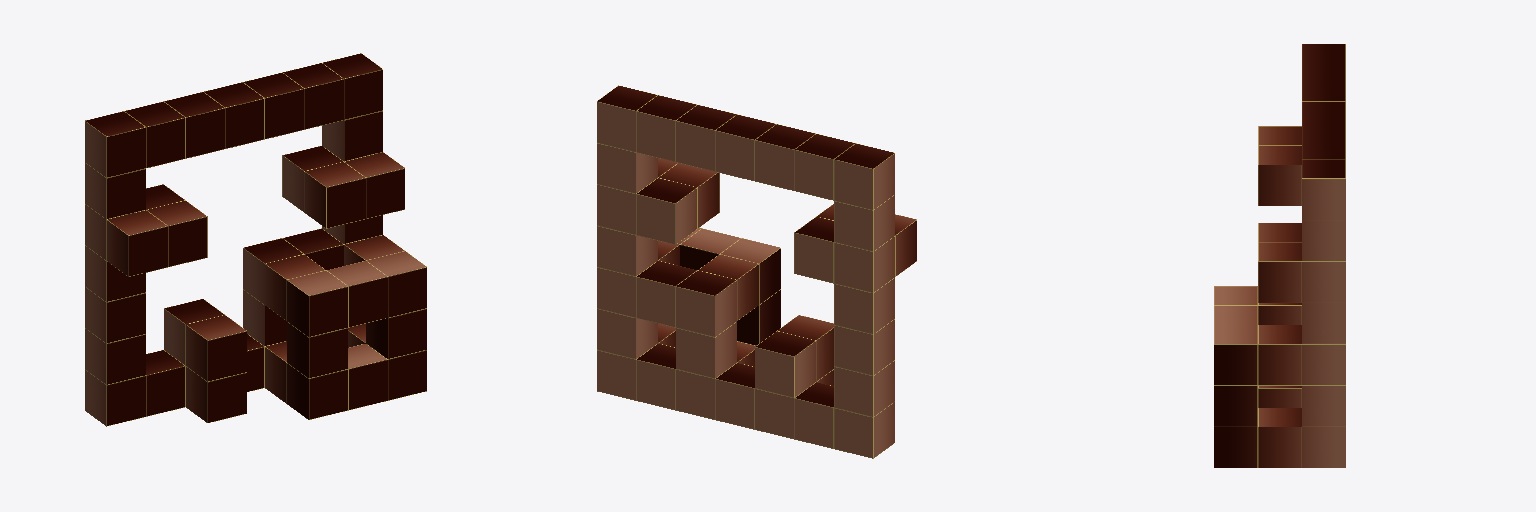
The picture shows the model from 3 angles: view 1: azimuth 30°, elevation 25°; view 2: azimuth 150°, elevation 25°; view 3: azimuth 270°, elevation 25°; orthographic projection.
Visible parts, largest first — view 1: QRCode1; view 2: QRCode1; view 3: QRCode1.
Part boxes in pixels (bbox=[...]): QRCode1: bbox=[85, 53, 426, 426]; QRCode1: bbox=[597, 85, 916, 458]; QRCode1: bbox=[1214, 44, 1345, 467].
Bounding box in the file's own units: 1.32 × 1.32 × 0.5433.
1 materials, 1 textured.